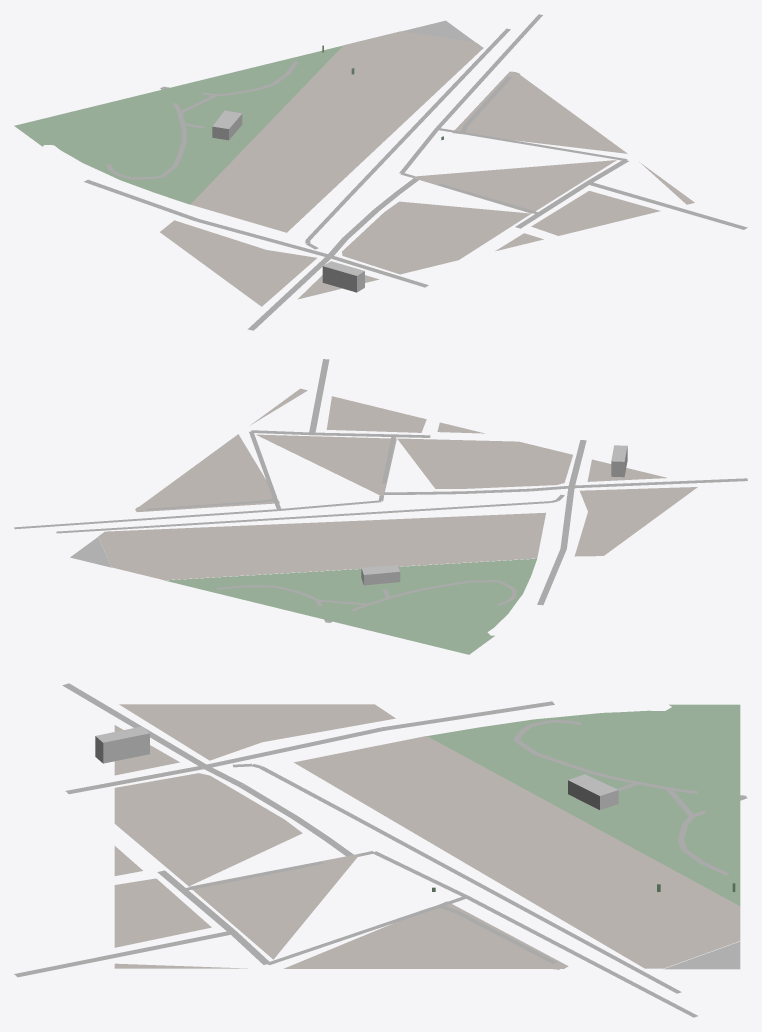
3 views of the same model, one above another, from view 1: azimuth 30°, elevation 25°; view 2: azimuth 150°, elevation 25°; view 3: azimuth 270°, elevation 25° (orthographic). The views are drawn at different scales.
Size of the model in its own units: 631 by 19.15 by 587.
